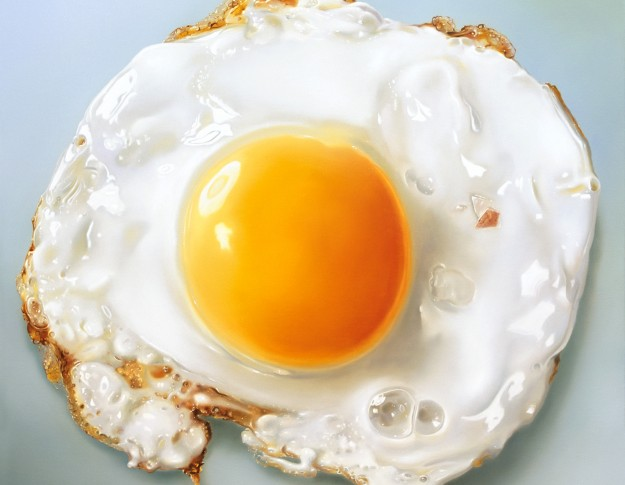fried egg: (72, 65, 522, 426)
